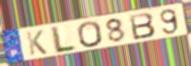8: (105, 17, 129, 43)
9: (159, 8, 180, 35)
B: (128, 12, 157, 41)
K: (25, 29, 49, 57)
L: (51, 25, 77, 55)
O: (76, 20, 105, 49)
